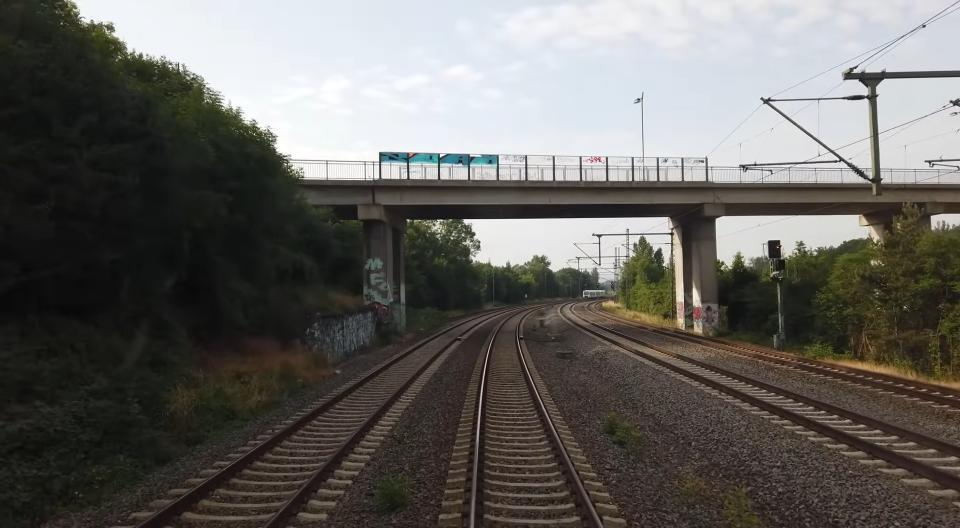Plant: (374, 475, 410, 513), (603, 413, 628, 446)
